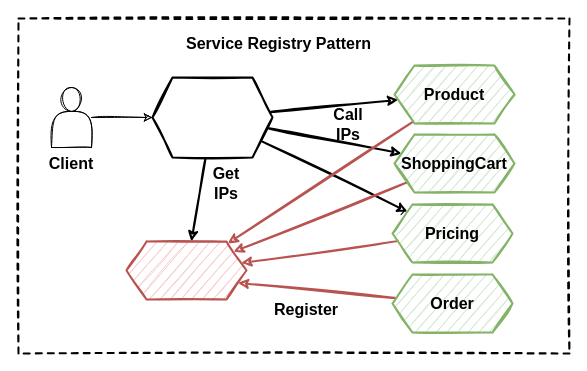
This 587x371 diagram has some shape labels left out. The shapes that lost their labels are listed below. From the top down, each one's centre as x and y in pixels, then its label:
At (x=212, y=117): "Gateway".
At (x=186, y=270): "Service Registry".
